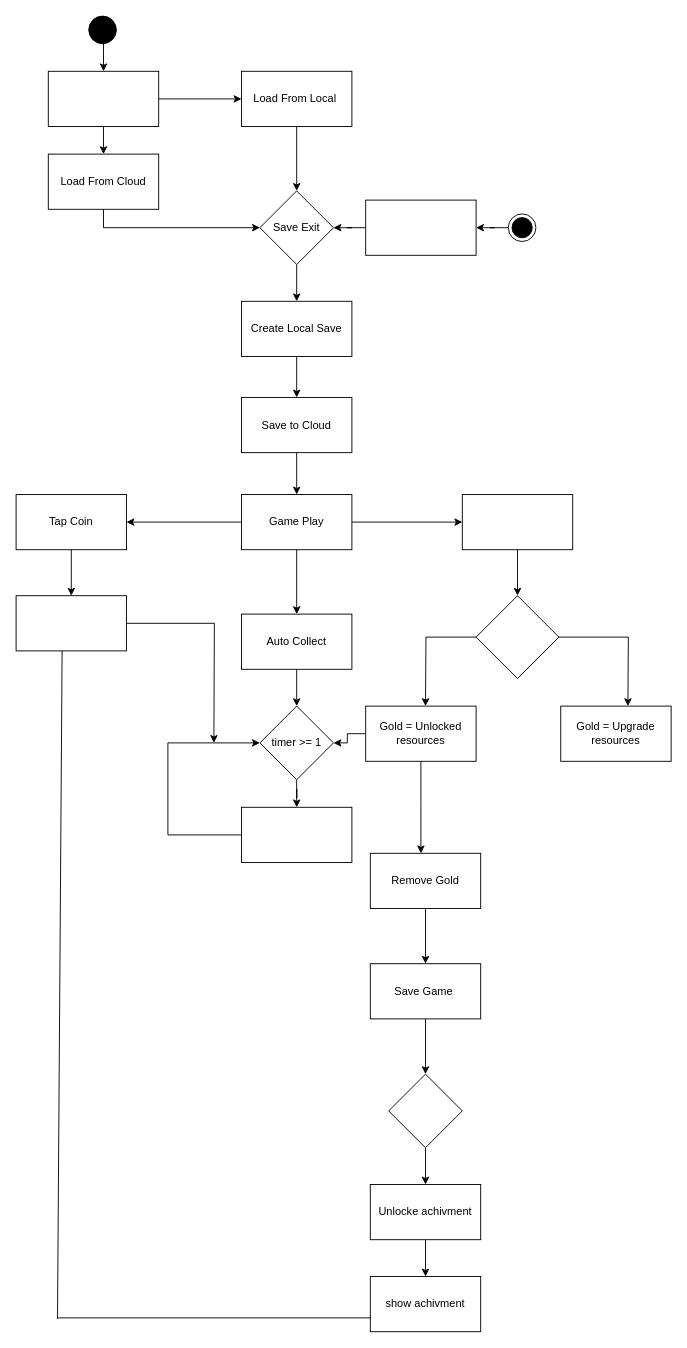
Some shapes in this 687 by 1348 pixel diagram are drawn without their labels. Each missing label, with the centre of its shape:
Add Gold: [70,623]
Conditions met: [425,1110]
Exit: [420,227]
Load Scene: [103,98]
Resource Unlocked: [517,636]
Tap Resource: [517,522]
Timer += delta time: [296,834]
